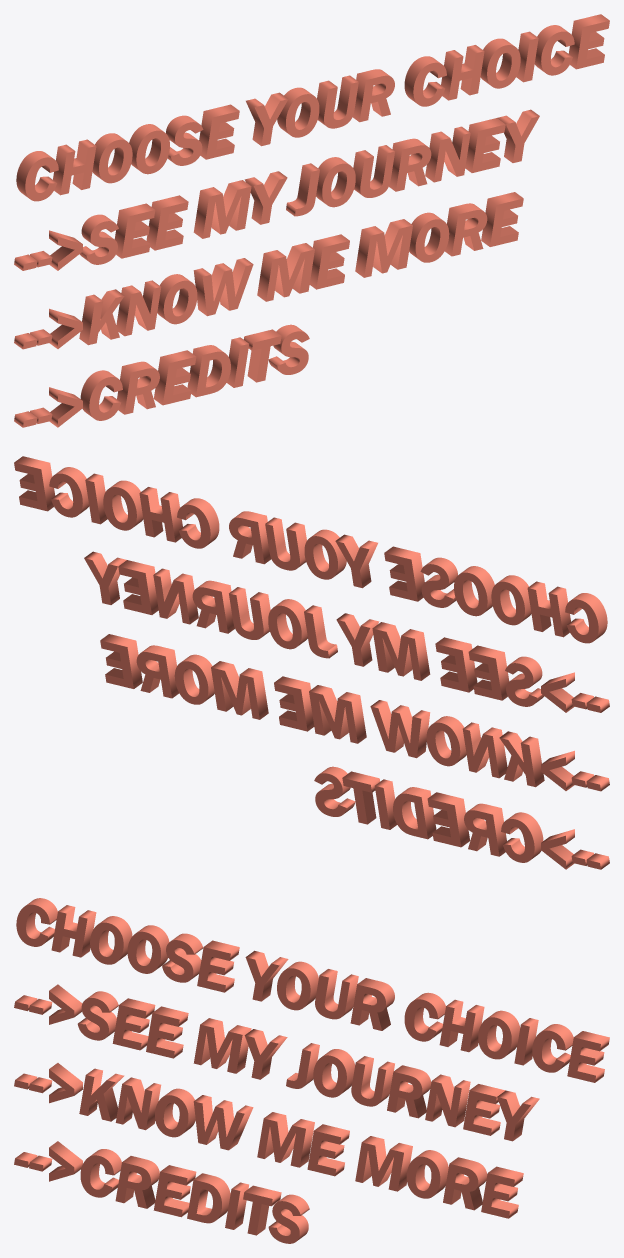
Rendered from startchoice.glb.
3 views of the same model, one above another, from view 1: azimuth 30°, elevation 25°; view 2: azimuth 150°, elevation 25°; view 3: azimuth 330°, elevation 25° (orthographic).
Parts seen in each view (by area): view 1: Text.002; view 2: Text.002; view 3: Text.002.
Part boxes in pixels (x1,y1,x2,y2): Text.002: [14, 14, 609, 427]; Text.002: [14, 456, 609, 869]; Text.002: [14, 898, 609, 1243].
Bounding box in the file's own units: 5.33 × 2.41 × 0.14.
